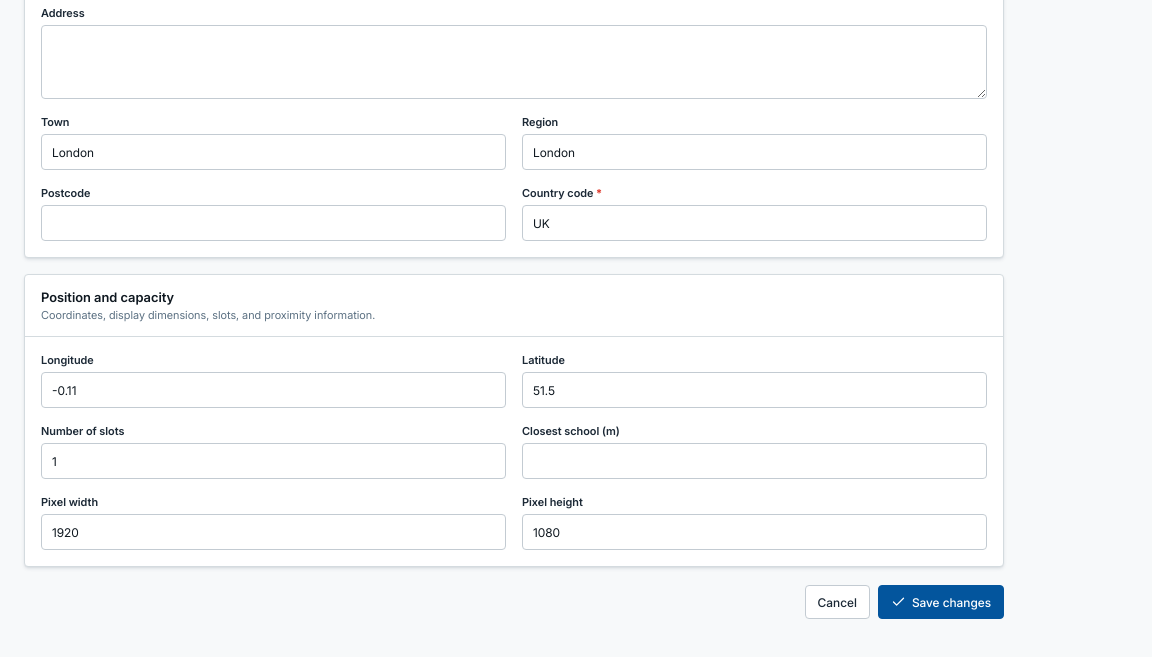
Test: edit frame › offers to reload the latest frame after an optimistic-lock conflict
(page scrolled)
Click the button "Save changes" at [941, 602], box top-left (878, 585), bottom-right (1004, 619)
(page scrolled)
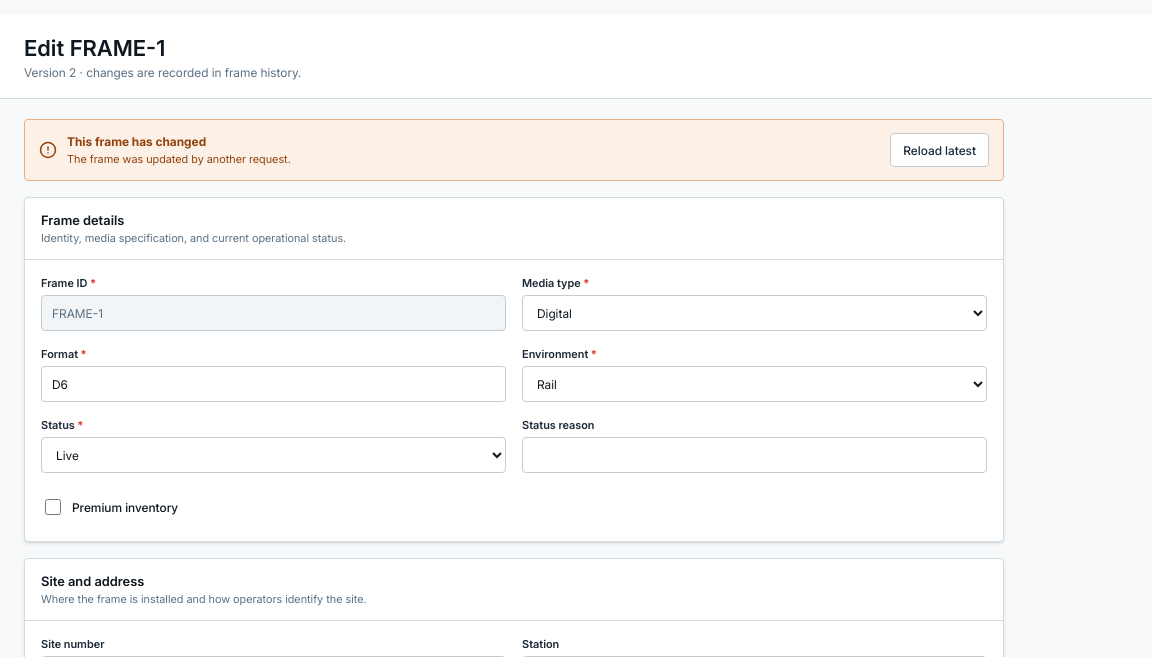
Expected: the text "This frame has changed" is shown, top-left (67, 134), bottom-right (206, 148)
Expected: the button "Reload latest" is shown, top-left (890, 133), bottom-right (989, 167)
